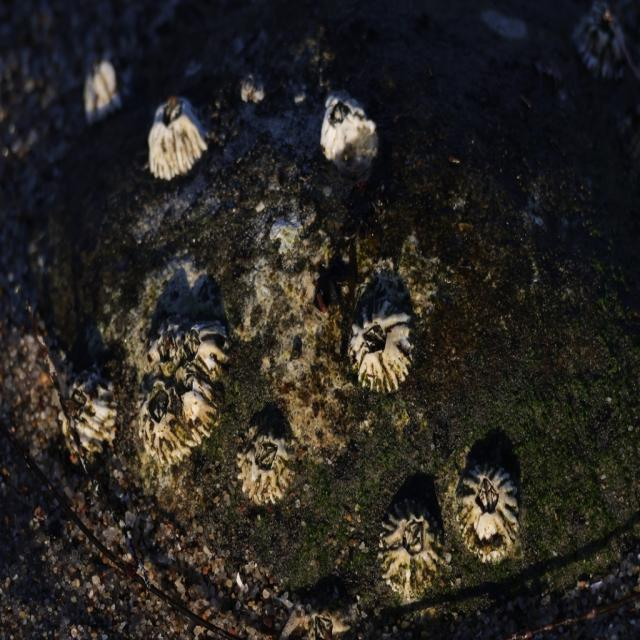barnacles: (369, 497, 454, 607), (347, 280, 418, 400), (455, 452, 525, 562), (318, 79, 384, 187), (146, 82, 206, 195), (58, 362, 117, 472), (135, 386, 196, 477), (236, 434, 305, 513), (184, 314, 237, 394), (178, 372, 222, 452), (143, 301, 181, 381)
